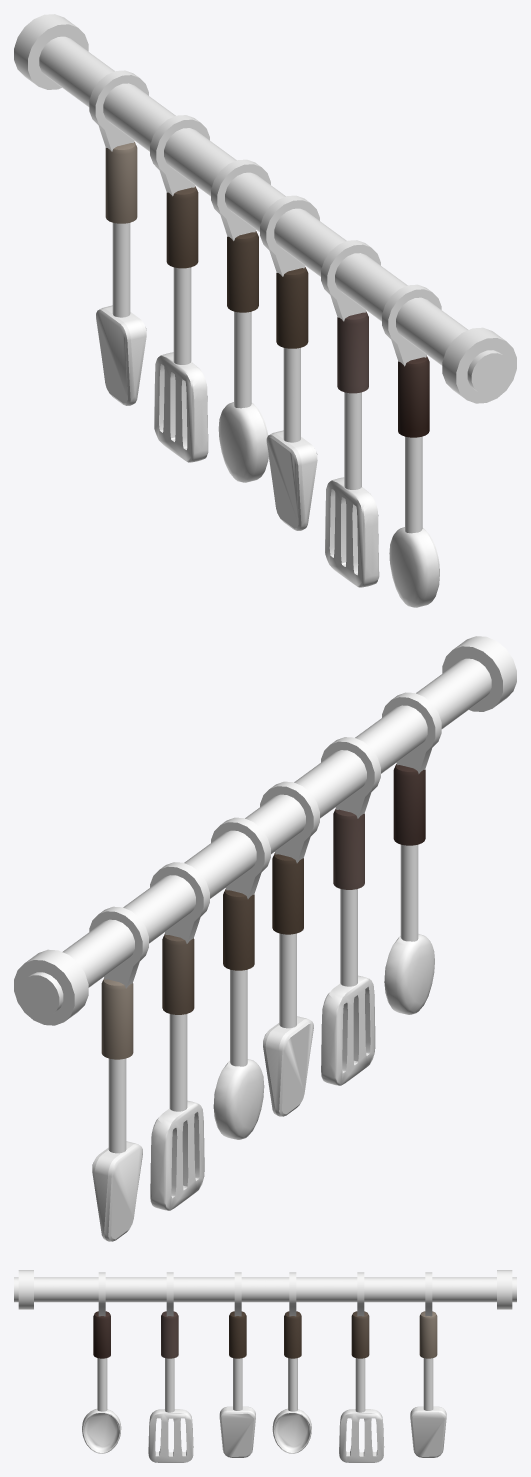
File: DEcorationMAterials.fbx
3 views of the same model, one above another, from view 1: azimuth 30°, elevation 25°; view 2: azimuth 150°, elevation 25°; view 3: azimuth 270°, elevation 25° (orthographic). The views are drawn at different scales.
Visible parts, largest first — view 1: Cylinder, Plane.002, Cylinder.001, Plane.001; view 2: Cylinder, Plane.002, Cylinder.001, Plane.001; view 3: Cylinder, Plane.002, Cylinder.001, Plane.001.
Boxes of the visible parts, bbox=[...] form: Cylinder: bbox=[14, 14, 516, 403]; Plane.002: bbox=[96, 305, 439, 607]; Cylinder.001: bbox=[105, 141, 429, 437]; Plane.001: bbox=[112, 223, 422, 533]; Cylinder: bbox=[14, 636, 516, 1025]; Plane.002: bbox=[92, 934, 434, 1241]; Cylinder.001: bbox=[101, 764, 425, 1059]; Plane.001: bbox=[108, 844, 418, 1153]; Cylinder: bbox=[14, 1270, 516, 1316]; Plane.002: bbox=[82, 1406, 446, 1462]; Cylinder.001: bbox=[93, 1311, 437, 1358]; Plane.001: bbox=[97, 1358, 433, 1412].
Bounding box in the file's own units: 40.93 × 218 × 526.
